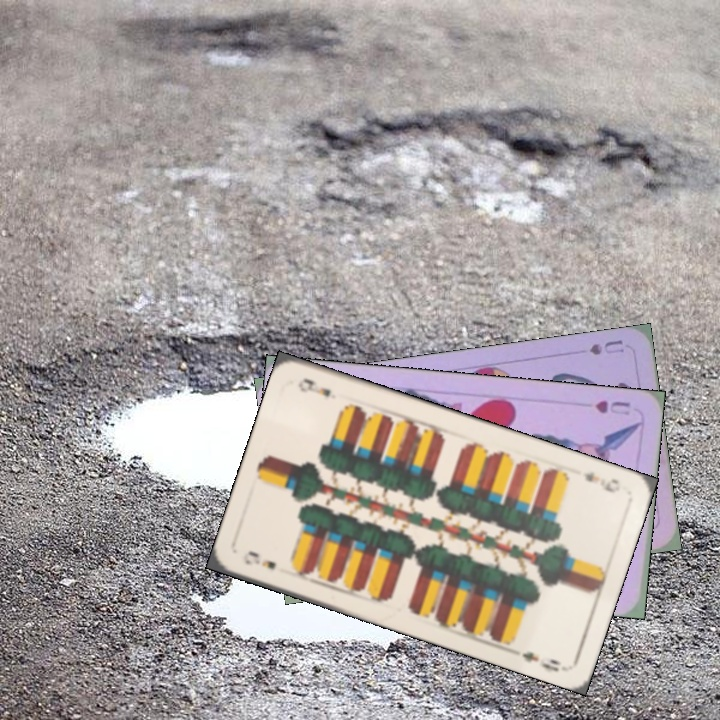E9: (579, 468, 623, 496), (240, 547, 279, 573)
HU: (591, 397, 633, 418)
SU: (585, 335, 627, 358)
